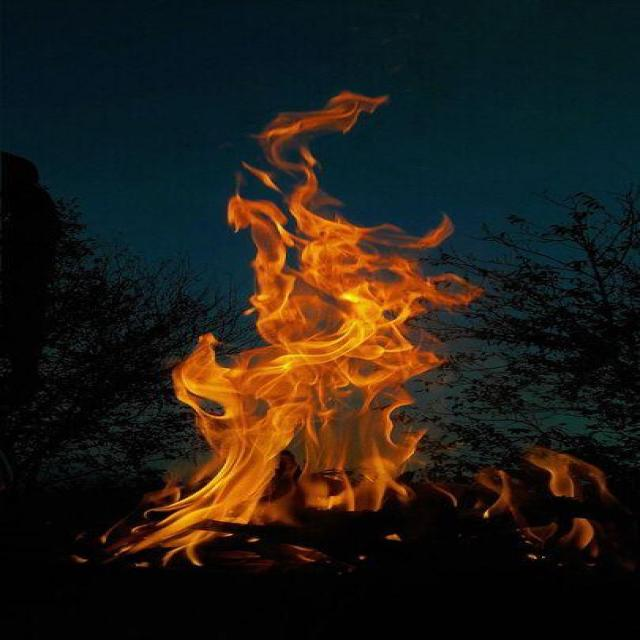fire: (148, 71, 452, 542)
